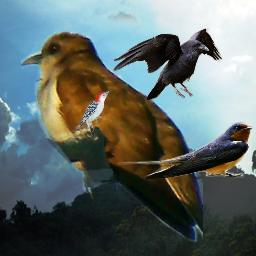Crow: (112, 28, 223, 100)
Cuckoo: (21, 31, 203, 246)
Swallow: (116, 121, 253, 180)
Woodpecker: (75, 90, 112, 138)
